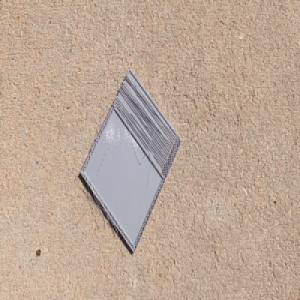PlasticPart: (79, 67, 183, 253)
